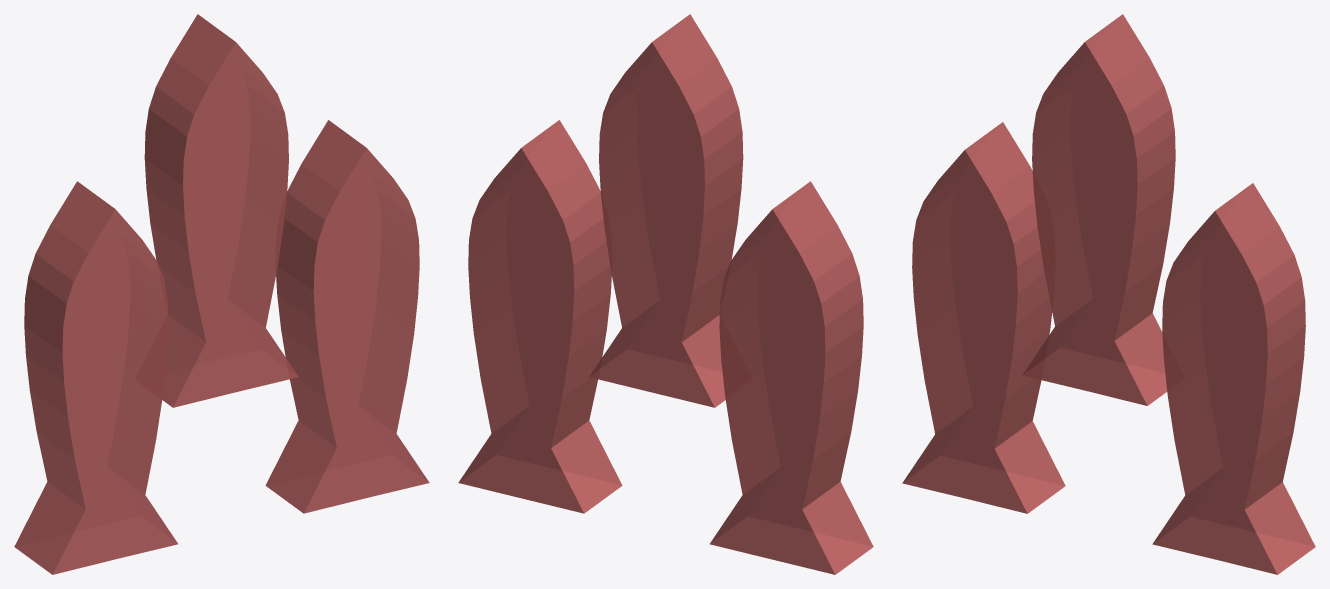
The model's file is Powerup_Entropy.fbx.
3 renders of one model, left to right at view 1: azimuth 30°, elevation 25°; view 2: azimuth 150°, elevation 25°; view 3: azimuth 330°, elevation 25°, orthographic.
Visible parts, largest first — view 1: Model_Powerup_Entropy; view 2: Model_Powerup_Entropy; view 3: Model_Powerup_Entropy.
Part boxes in pixels (x1,y1,x2,y2): Model_Powerup_Entropy: [14, 14, 429, 574]; Model_Powerup_Entropy: [458, 14, 873, 574]; Model_Powerup_Entropy: [902, 14, 1315, 574].
Bounding box in the file's own units: 4.29 × 5.3 × 0.754.
